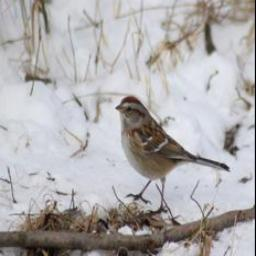Sparrow: (111, 90, 230, 219)
